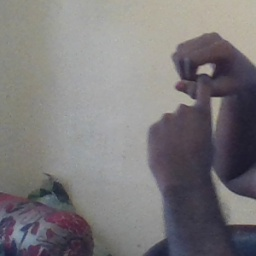Q: (145, 30, 240, 167)
